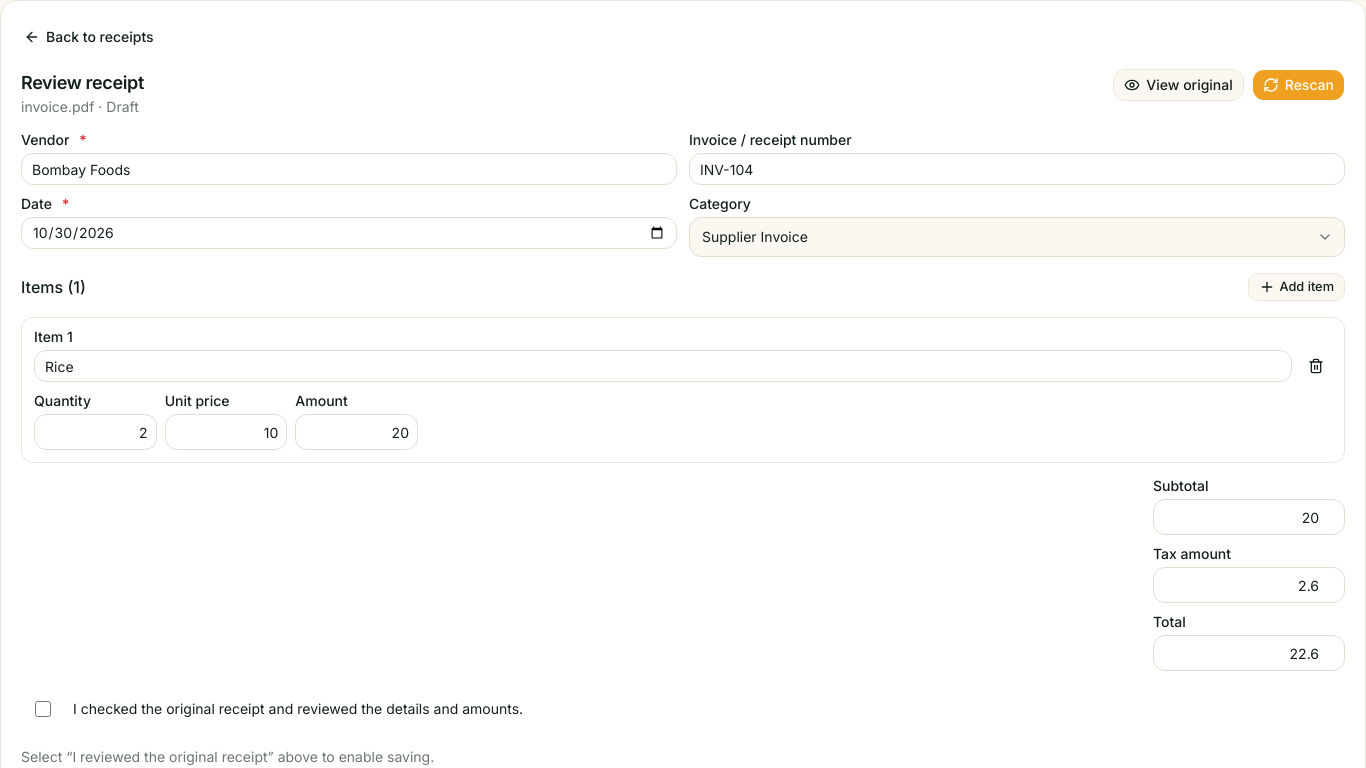
Test case: rounds calculated values to cents
This screenshot has width=1366, height=768.
Replace the text in the number field labelled "Quantity" with "3" at (95, 432), box left=34, top=414, right=157, bottom=450
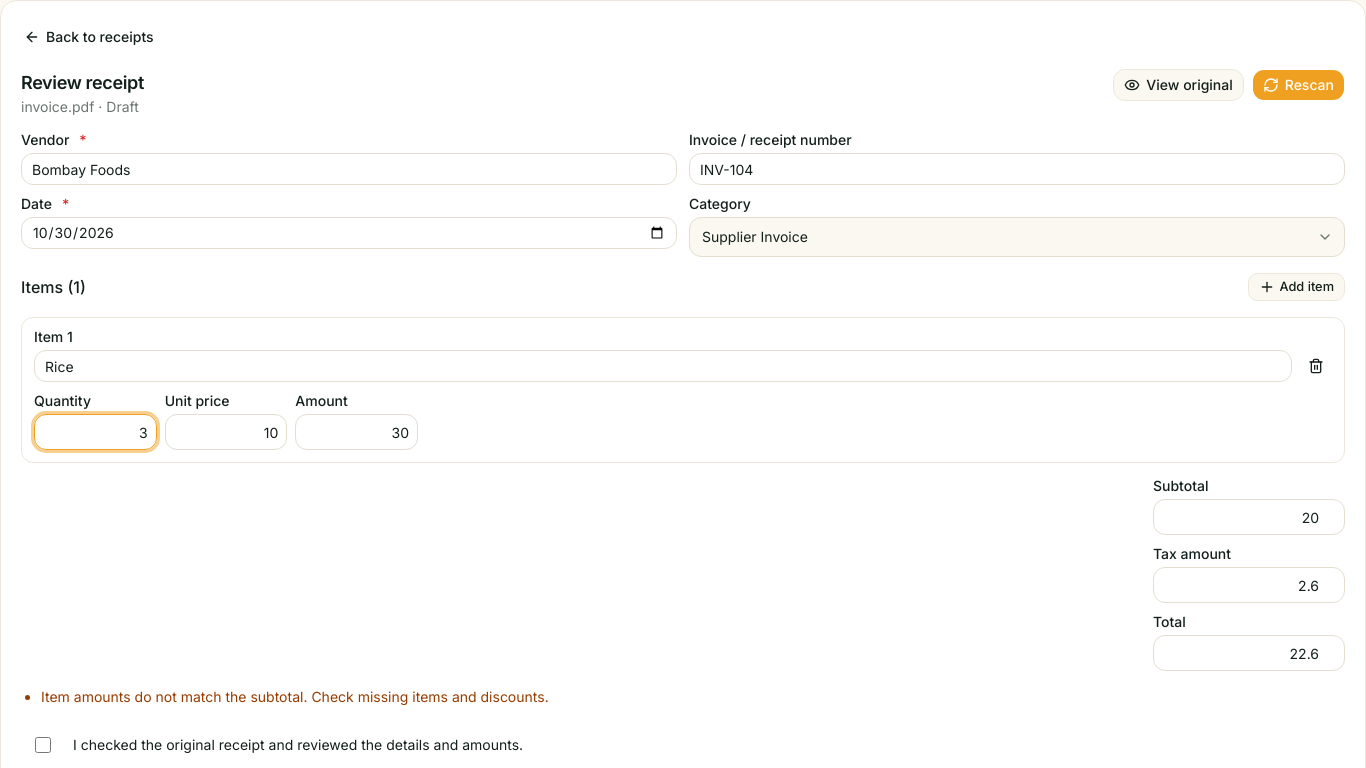
Replace the text in the number field labelled "Unit price" with "0.335" at (226, 432), box left=165, top=414, right=287, bottom=450
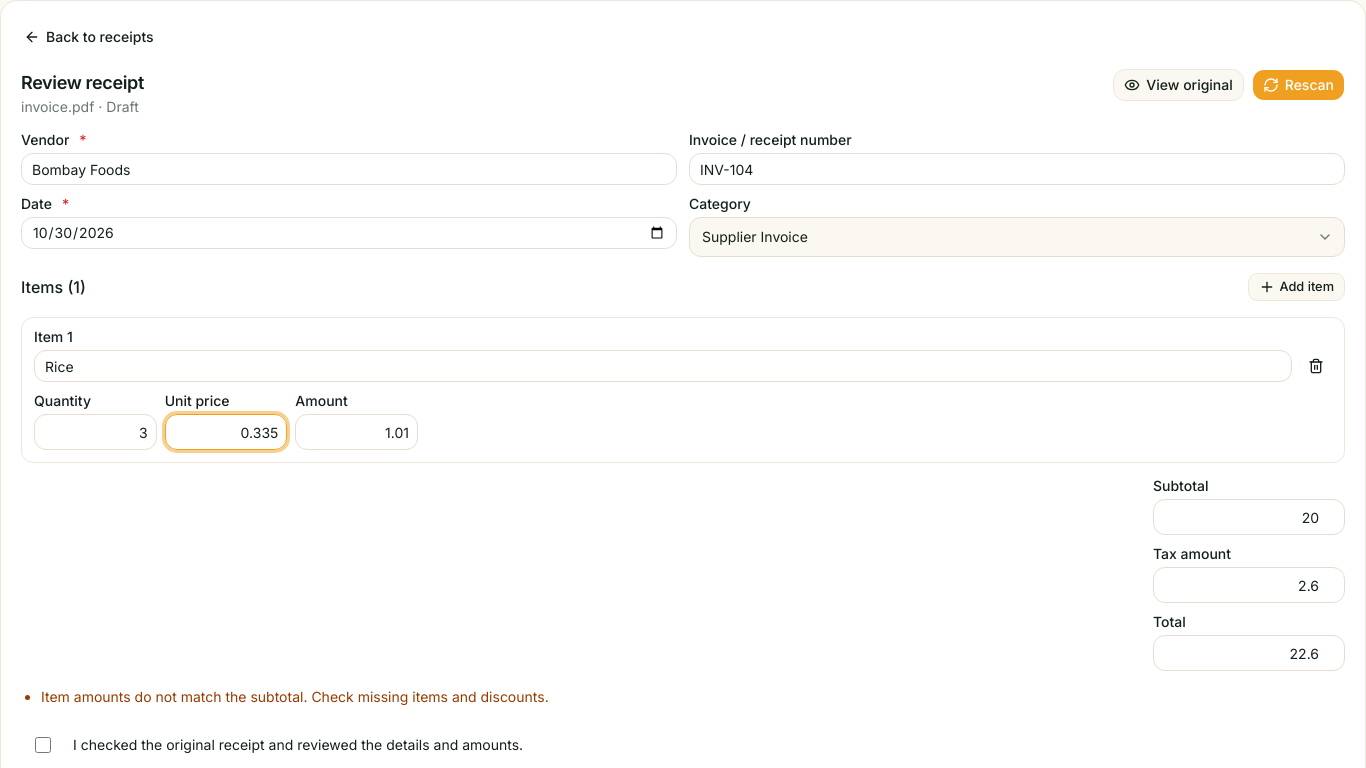
Check: the number field labelled "Amount" holds "1.01", box left=295, top=414, right=418, bottom=450
Replace the text in the number field labelled "Quantity" with "1" at (95, 432), box left=34, top=414, right=157, bottom=450
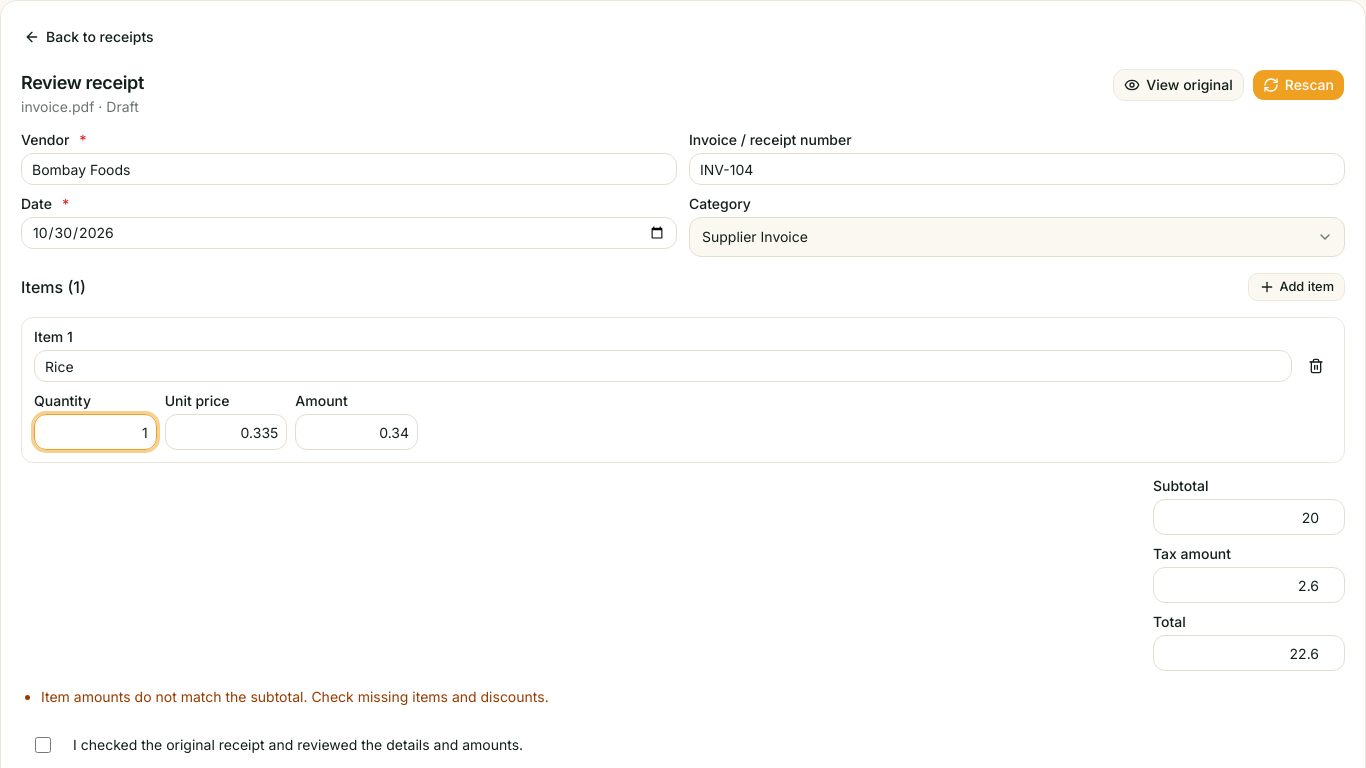
Replace the text in the number field labelled "Unit price" with "10.075" at (226, 432), box left=165, top=414, right=287, bottom=450
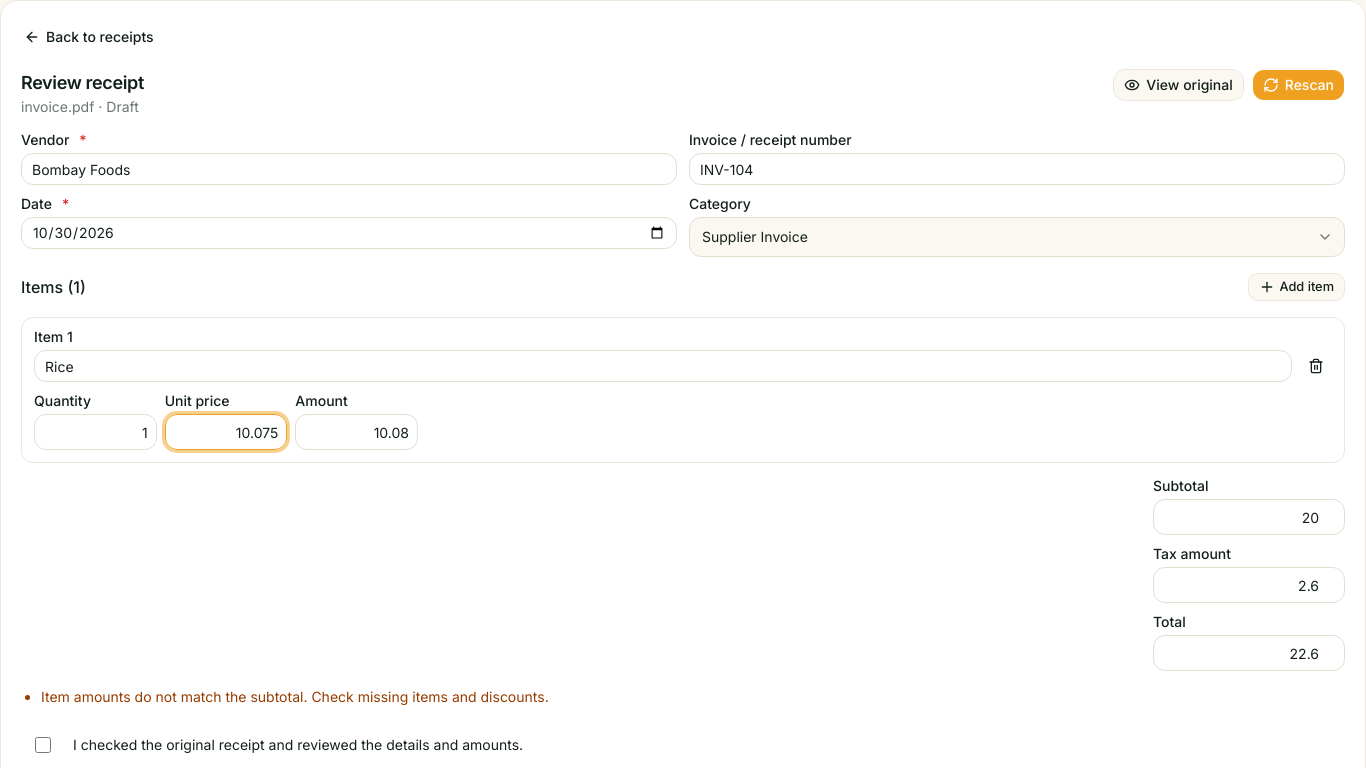
Check: the number field labelled "Amount" holds "10.08", box left=295, top=414, right=418, bottom=450
Replace the text in the number field labelled "Subtotal" with "10.075" at (1249, 517), box left=1153, top=499, right=1345, bottom=535
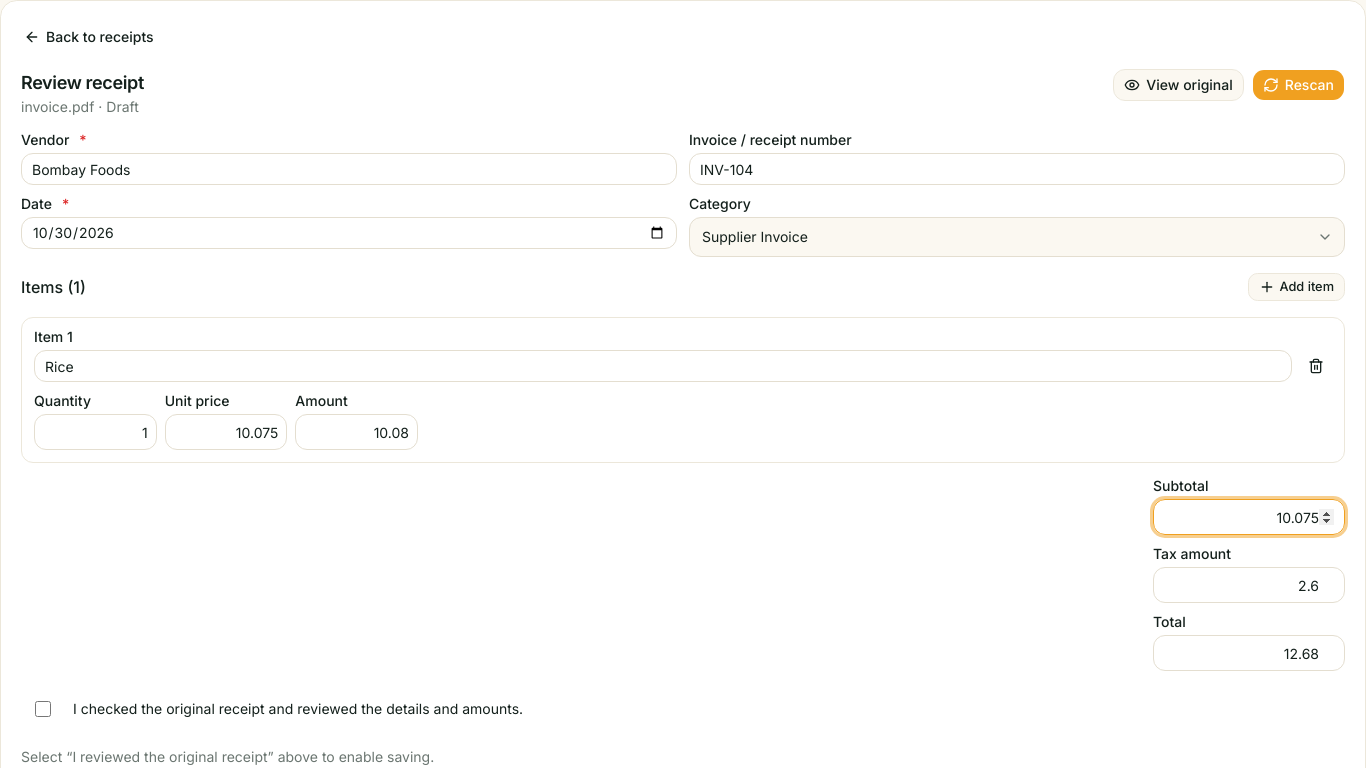
Replace the text in the number field labelled "Tax amount" with "0" at (1249, 585), box left=1153, top=567, right=1345, bottom=603
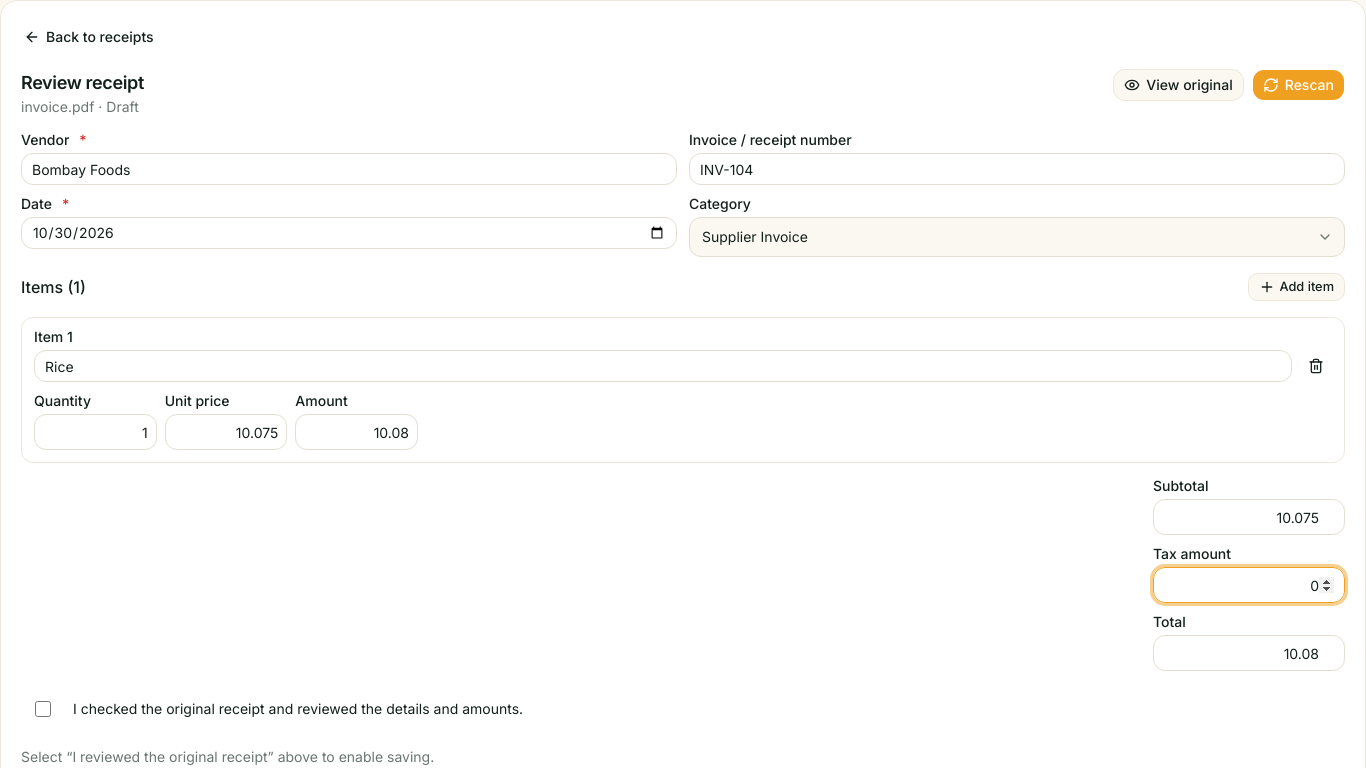
Check: the number field labelled "Total" holds "10.08", box left=1153, top=635, right=1345, bottom=671
